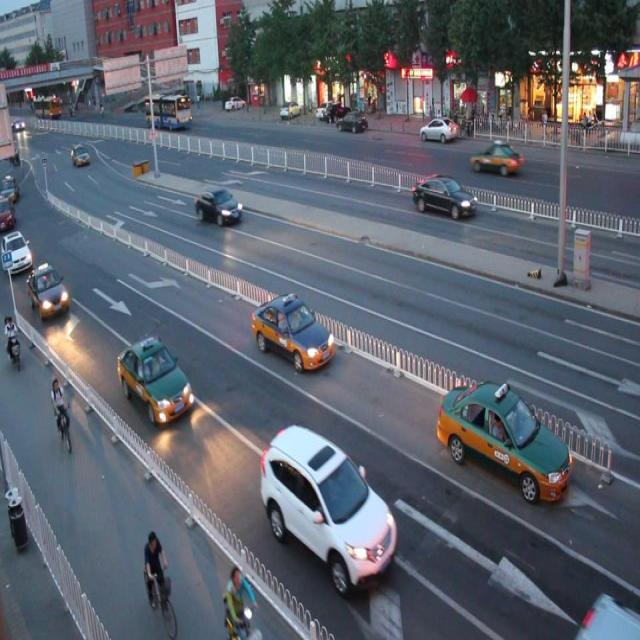car: (258, 422, 398, 590), (438, 377, 572, 501), (249, 288, 333, 370), (117, 337, 193, 423), (411, 170, 475, 220), (28, 262, 71, 318), (196, 184, 242, 227), (470, 141, 524, 177)
